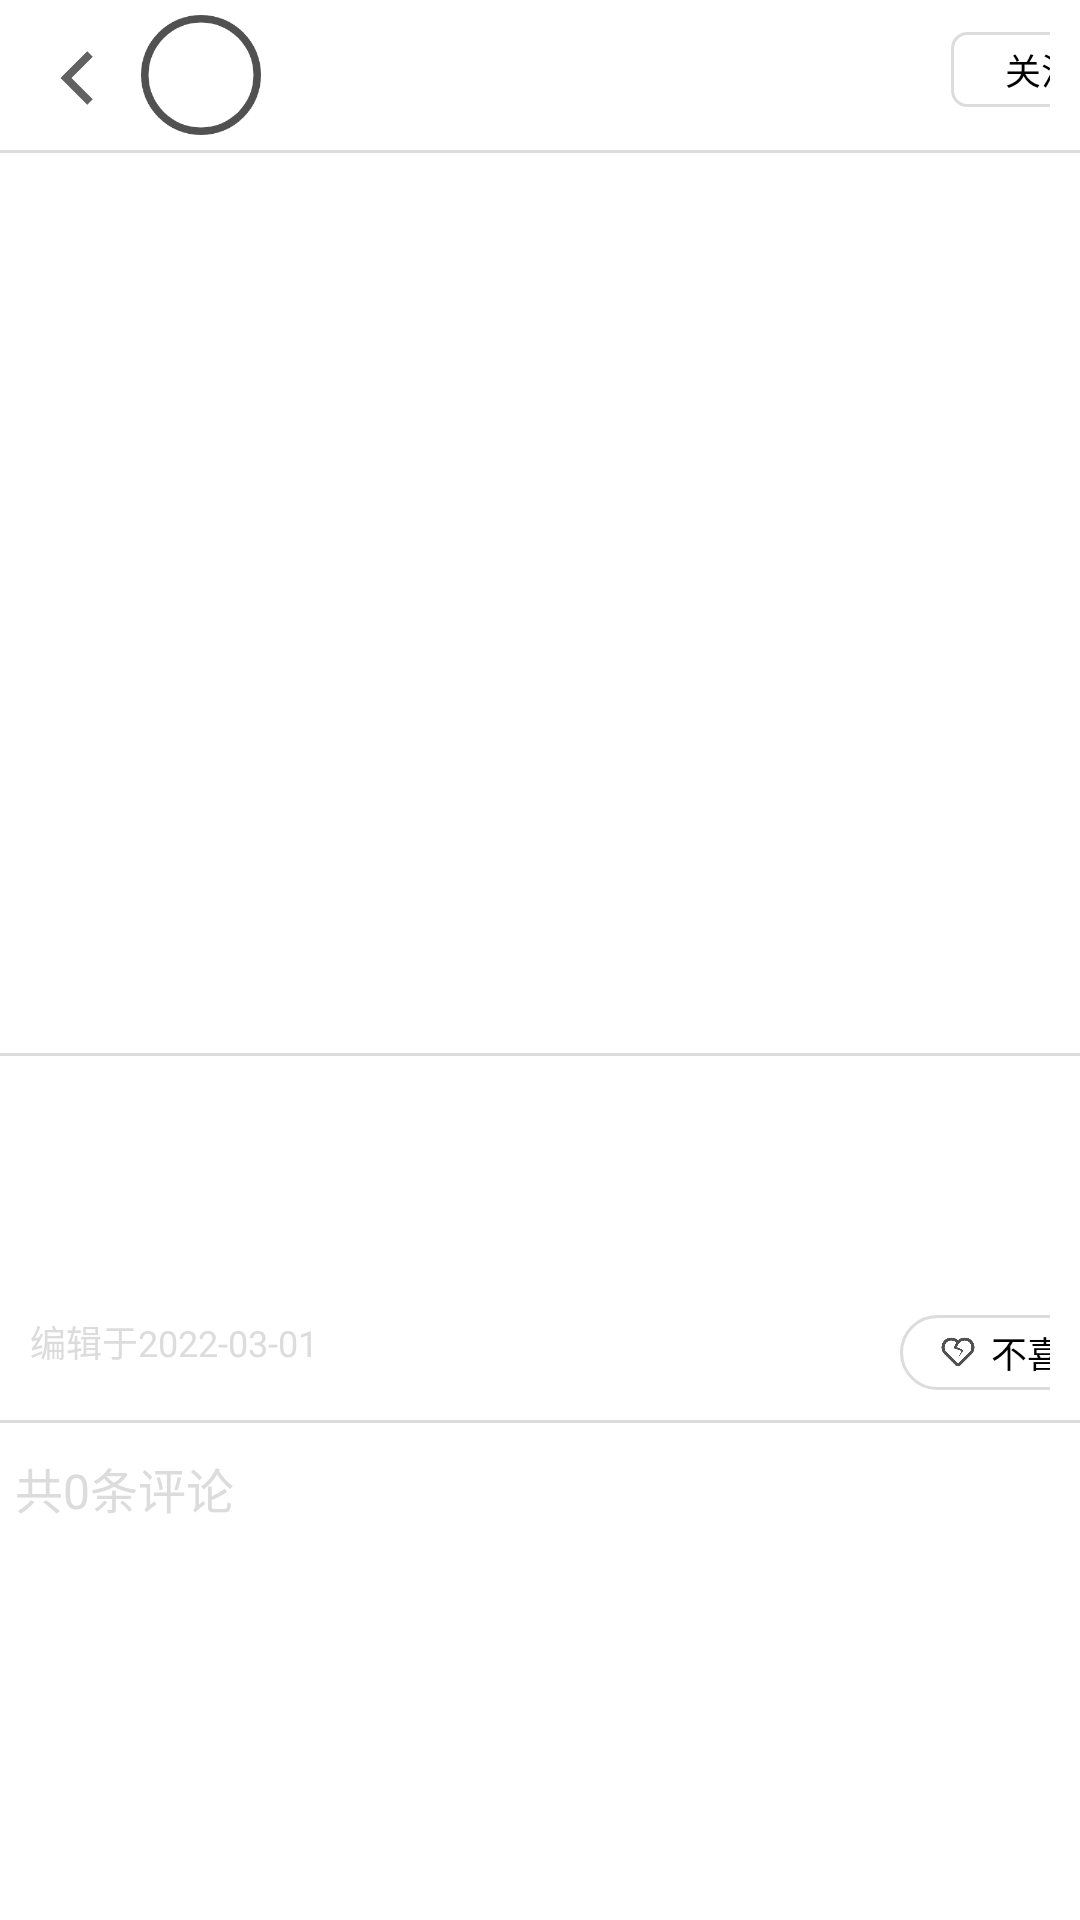

Icon click points for this 1080w x 1920h phone screenshot, format (x=x, y=y):
back: (x=77, y=78)
unlike: (x=958, y=1351)
